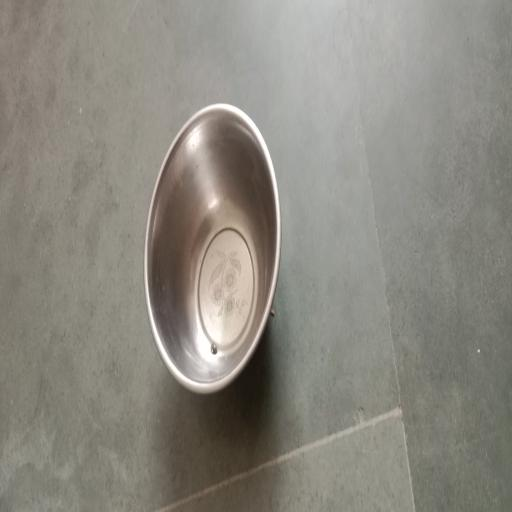Bowl: (143, 104, 281, 394)
